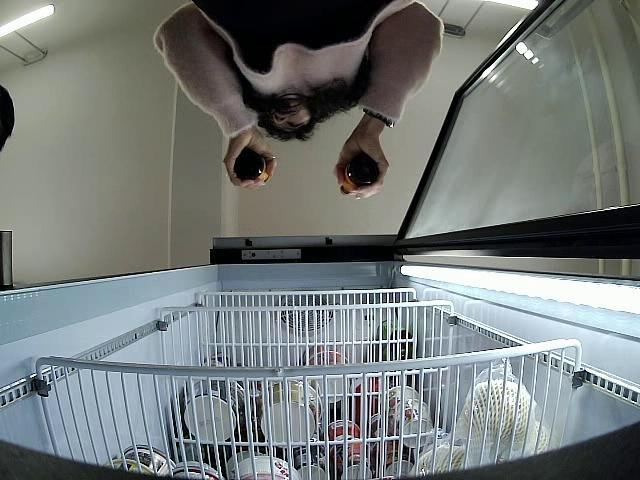17_vita500: (339, 155, 382, 196), (234, 148, 269, 182)
